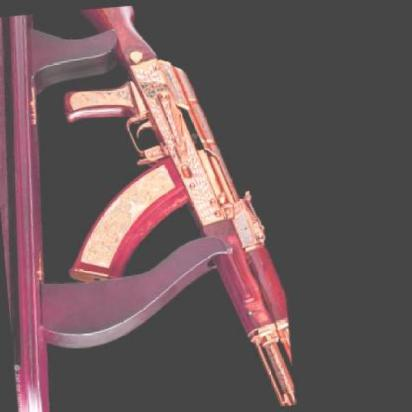Gun: (3, 0, 280, 392)
